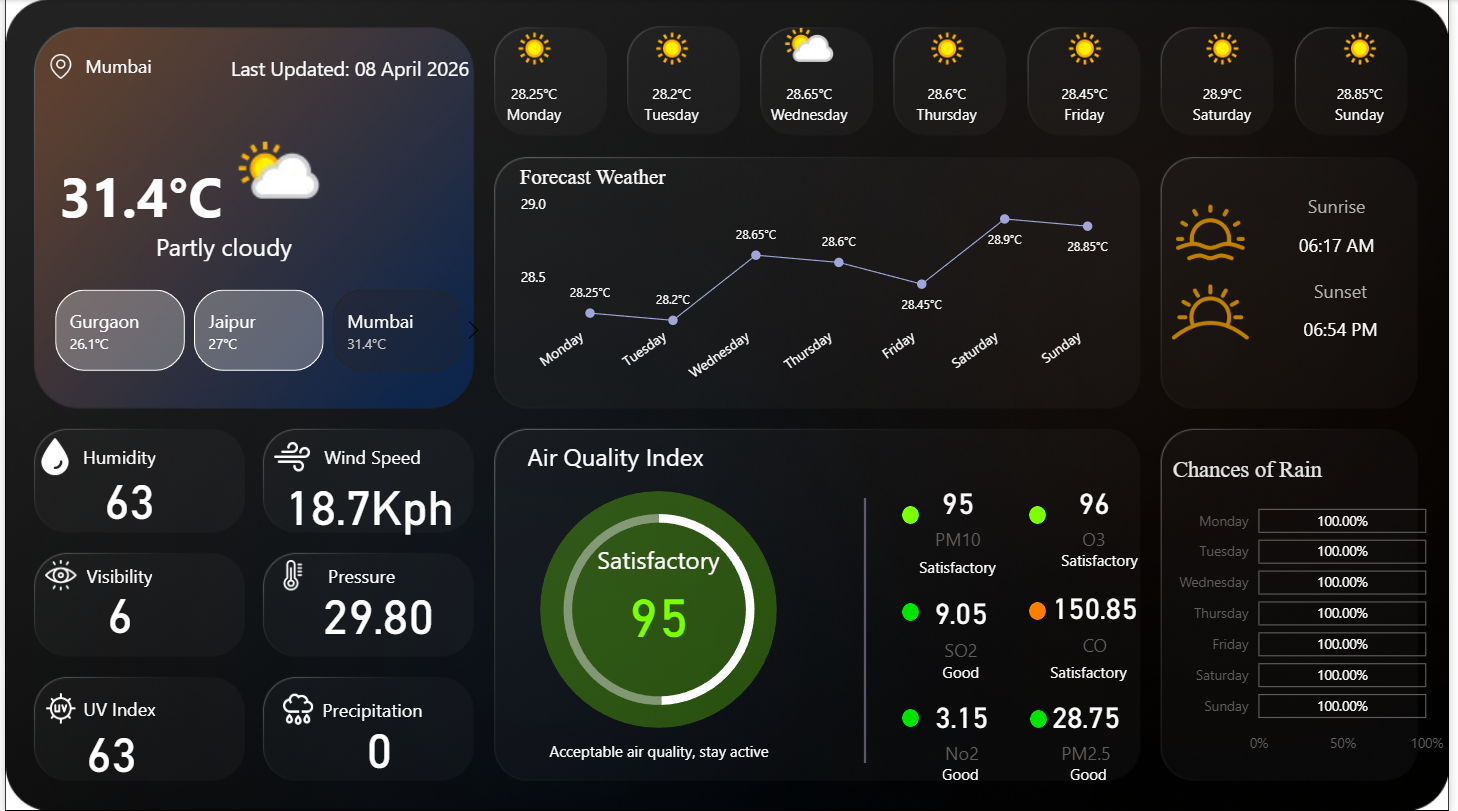

This screenshot's page, from the dashboard's own definition file:
{"tool":"powerbi","page":{"name":"Page 1","canvas":[1280,720],"ordinal":0},"visuals":[{"type":"advancedSlicerVisual","fields":{"Values":["Locations.location.name"]},"box":[19.5,251.8,411.4,82.5],"z":0},{"type":"shape","box":[16,127.7,209.3,89.6],"z":1000},{"type":"shape","box":[12.4,182.7,363.5,69.2],"z":2000},{"type":"shape","box":[34.9,34.9,132.3,46.9],"z":3000},{"type":"shape","box":[194.2,31,223.4,56.7],"z":4000},{"type":"image","box":[35.5,47.9,28.4,22.2],"z":5000},{"type":"cardVisual","fields":{"Data":["Min(Current.current.condition.icon)"]},"box":[180.9,87.8,125,137.4],"z":6000},{"type":"image","box":[24.8,387.5,39,34.6],"z":7000},{"type":"image","box":[230.5,387.5,47.9,34.6],"z":8000},{"type":"image","box":[35.5,496.6,28.4,27.5],"z":9000},{"type":"image","box":[239.4,611.8,40.8,33.7],"z":10000},{"type":"image","box":[35.5,605.6,28.4,45.2],"z":11000},{"type":"image","box":[194.2,496.6,122.4,27.5],"z":12000},{"type":"shape","box":[35.5,381.3,132.1,47],"z":13000},{"type":"shape","box":[35.5,604.7,132.1,47],"z":14000},{"type":"shape","box":[249.9,487,132.3,46.9],"z":15000},{"type":"shape","box":[35.5,486.8,132.1,47],"z":16000},{"type":"shape","box":[259.8,381.3,132.1,47],"z":17000},{"type":"shape","box":[259.8,605.6,132.1,47],"z":18000},{"type":"card","fields":{"Values":["Sum(Current.current.humidity)"]},"box":[65.6,395.5,89.6,91.3],"z":19000},{"type":"card","fields":{"Values":["Current.speed"]},"box":[239.8,395.1,167.2,101.1],"z":20000},{"type":"card","fields":{"Values":["Sum(Current.current.vis_km)"]},"box":[56.7,496.6,89.6,91.3],"z":21000},{"type":"card","fields":{"Values":["Sum(Current.current.pressure_in)"]},"box":[264.6,496.2,133.2,91.9],"z":22000},{"type":"card","fields":{"Values":["Sum(Current.current.humidity)"]},"box":[49.7,619.8,89.6,91.3],"z":23000},{"type":"card","fields":{"Values":["Sum(Current.current.precip_mm)"]},"box":[271.1,620.2,121.3,83.6],"z":24000},{"type":"advancedSlicerVisual","fields":{"Values":["Forecast.Day_Name"]},"box":[407,11.5,862.8,116.2],"z":25000},{"type":"lineChart","title":"Forecast Weather","fields":{"Category":["Forecast.Day_Name"],"Y":["Avg(Forecast.forecast.forecastday.day.avgtemp_c)"]},"box":[451.2,146.1,543.1,204.9],"z":26000},{"type":"shape","box":[1114.6,159,132.3,46.9],"z":27000},{"type":"shape","box":[1114.6,193,132.3,46.9],"z":28000},{"type":"shape","box":[1118.2,234.2,132.3,46.9],"z":29000},{"type":"shape","box":[1118.2,268.2,132.3,46.9],"z":30000},{"type":"image","box":[1038.3,175.5,61.6,60.6],"z":31000},{"type":"image","box":[1023.6,226,91,100.2],"z":32000},{"type":"hundredPercentStackedBarChart","title":"Chances of Rain","fields":{"Category":["Forecast.Day_Name"],"Y":["Sum(Forecast.forecast.forecastday.day.daily_chance_of_rain)","Current_Temp_C.Left_Rain"]},"box":[1030.1,405.2,249.9,272],"z":33000},{"type":"shape","box":[442.9,381.3,197.6,46.9],"z":34000},{"type":"card","fields":{"Values":["Sum(Current.current.air_quality.o3)"]},"box":[916.1,409.8,99.2,92.8],"z":35000},{"type":"card","fields":{"Values":["Sum(Current.current.air_quality.pm2_5)"]},"box":[908.8,599.1,99.2,92.8],"z":36000},{"type":"card","fields":{"Values":["Sum(Current.current.air_quality.co)"]},"box":[916.8,502.8,99.3,93.1],"z":37000},{"type":"card","fields":{"Values":["Sum(Current.current.air_quality.no2)"]},"box":[798.5,599.1,99.2,92.8],"z":38000},{"type":"card","fields":{"Values":["Sum(Current.current.air_quality.so2)"]},"box":[795.8,502.6,104.8,102],"z":39000},{"type":"card","fields":{"Values":["Sum(Current.current.air_quality.pm10)"]},"box":[795.8,409.8,99.2,92.8],"z":40000},{"type":"shape","box":[663.3,441.6,198.6,235],"z":41000},{"type":"shape","box":[795.4,448.7,15.1,16],"z":42000},{"type":"shape","box":[908.9,629.6,15.1,16],"z":43000},{"type":"shape","box":[795.4,628.7,15.1,16],"z":44000},{"type":"shape","box":[795.4,534.7,15.1,16],"z":45000},{"type":"shape","box":[908,533.8,15.1,16],"z":46000},{"type":"shape","box":[908,448.7,15.1,16],"z":47000},{"type":"shape","box":[861.9,662.4,197.7,47],"z":48000},{"type":"shape","box":[748.4,662.4,197.7,46.1],"z":49000},{"type":"shape","box":[861.9,571.9,197.7,47],"z":50000},{"type":"shape","box":[749.3,571.9,196.8,47],"z":51000},{"type":"shape","box":[474.4,435.4,210.1,210.1],"z":52000},{"type":"shape","box":[871.6,472.6,197.7,47],"z":53000},{"type":"shape","box":[745.7,478.8,197.7,47],"z":54000},{"type":"card","fields":{"Values":["Sum(Current.current.air_quality.pm10)"]},"box":[530.2,496.6,99.3,93.1],"z":55000},{"type":"donutChart","fields":{"Y":["Sum(Current.current.air_quality.pm10)","Current_Temp_C.Left_Rain"]},"box":[469.1,422.1,221.7,236.7],"z":56000},{"type":"shape","box":[480.6,472.6,197.7,47],"z":57000},{"type":"shape","box":[459.3,642,241.2,47],"z":58000}]}

Visuals, with their boxes in screenshot pixels (x1, y1, x2, y2), scaled from the page's 1280x720 canvas onto the 1458x811 screenshot:
advancedSlicerVisual - Locations.location.name: (left=22, top=284, right=491, bottom=377)
shape: (left=18, top=144, right=257, bottom=245)
shape: (left=14, top=206, right=428, bottom=284)
shape: (left=40, top=39, right=190, bottom=92)
shape: (left=221, top=35, right=476, bottom=99)
image: (left=40, top=54, right=73, bottom=79)
cardVisual - Min(Current.current.condition.icon): (left=206, top=99, right=348, bottom=254)
image: (left=28, top=436, right=73, bottom=475)
image: (left=263, top=436, right=317, bottom=475)
image: (left=40, top=559, right=73, bottom=590)
image: (left=273, top=689, right=319, bottom=727)
image: (left=40, top=682, right=73, bottom=733)
image: (left=221, top=559, right=361, bottom=590)
shape: (left=40, top=429, right=191, bottom=482)
shape: (left=40, top=681, right=191, bottom=734)
shape: (left=285, top=549, right=435, bottom=601)
shape: (left=40, top=548, right=191, bottom=601)
shape: (left=296, top=429, right=446, bottom=482)
shape: (left=296, top=682, right=446, bottom=735)
card - Sum(Current.current.humidity): (left=75, top=445, right=177, bottom=548)
card - Current.speed: (left=273, top=445, right=464, bottom=559)
card - Sum(Current.current.vis_km): (left=65, top=559, right=167, bottom=662)
card - Sum(Current.current.pressure_in): (left=301, top=559, right=453, bottom=662)
card - Sum(Current.current.humidity): (left=57, top=698, right=159, bottom=801)
card - Sum(Current.current.precip_mm): (left=309, top=699, right=447, bottom=793)
advancedSlicerVisual - Forecast.Day_Name: (left=464, top=13, right=1446, bottom=144)
"Forecast Weather" lineChart: (left=514, top=165, right=1133, bottom=395)
shape: (left=1270, top=179, right=1420, bottom=232)
shape: (left=1270, top=217, right=1420, bottom=270)
shape: (left=1274, top=264, right=1424, bottom=317)
shape: (left=1274, top=302, right=1424, bottom=355)
image: (left=1183, top=198, right=1253, bottom=266)
image: (left=1166, top=255, right=1270, bottom=367)
"Chances of Rain" hundredPercentStackedBarChart: (left=1173, top=456, right=1457, bottom=763)
shape: (left=504, top=429, right=730, bottom=482)
card - Sum(Current.current.air_quality.o3): (left=1043, top=462, right=1156, bottom=566)
card - Sum(Current.current.air_quality.pm2_5): (left=1035, top=675, right=1148, bottom=779)
card - Sum(Current.current.air_quality.co): (left=1044, top=566, right=1157, bottom=671)
card - Sum(Current.current.air_quality.no2): (left=910, top=675, right=1023, bottom=779)
card - Sum(Current.current.air_quality.so2): (left=906, top=566, right=1026, bottom=681)
card - Sum(Current.current.air_quality.pm10): (left=906, top=462, right=1019, bottom=566)
shape: (left=756, top=497, right=982, bottom=762)
shape: (left=906, top=505, right=923, bottom=523)
shape: (left=1035, top=709, right=1052, bottom=727)
shape: (left=906, top=708, right=923, bottom=726)
shape: (left=906, top=602, right=923, bottom=620)
shape: (left=1034, top=601, right=1051, bottom=619)
shape: (left=1034, top=505, right=1051, bottom=523)
shape: (left=982, top=746, right=1207, bottom=799)
shape: (left=852, top=746, right=1078, bottom=798)
shape: (left=982, top=644, right=1207, bottom=697)
shape: (left=853, top=644, right=1078, bottom=697)
shape: (left=540, top=490, right=780, bottom=727)
shape: (left=993, top=532, right=1218, bottom=585)
shape: (left=849, top=539, right=1075, bottom=592)
card - Sum(Current.current.air_quality.pm10): (left=604, top=559, right=717, bottom=664)
donutChart - Sum(Current.current.air_quality.pm10) x Current_Temp_C.Left_Rain: (left=534, top=475, right=787, bottom=742)
shape: (left=547, top=532, right=773, bottom=585)
shape: (left=523, top=723, right=798, bottom=776)
